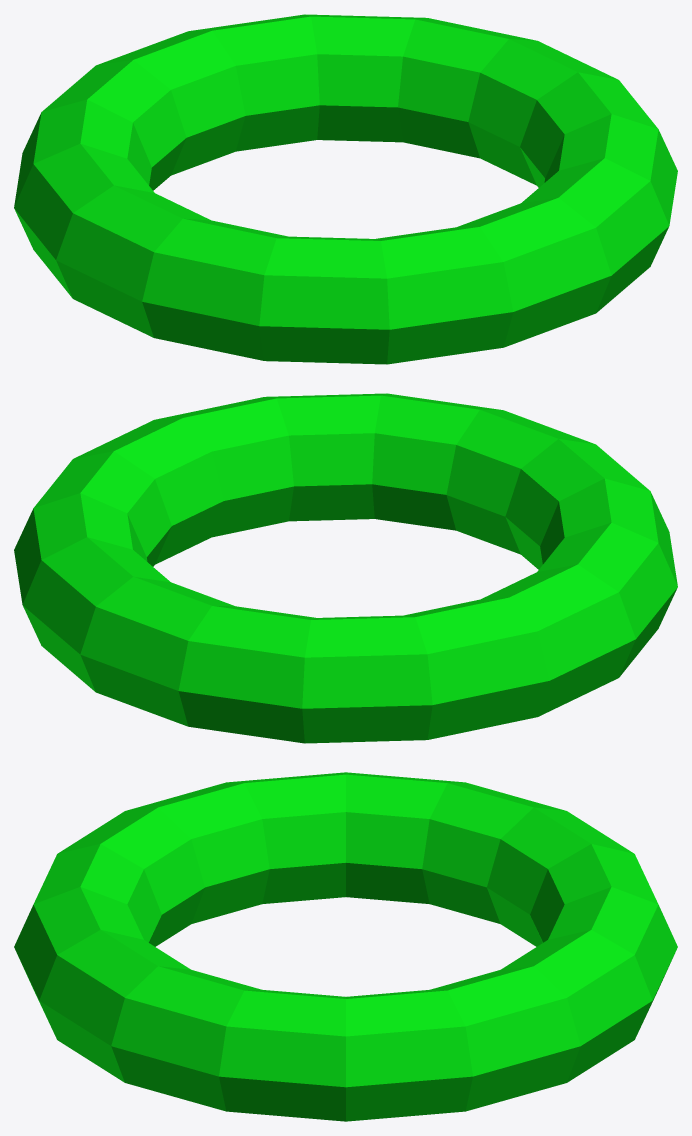
Rendered from TargetPoint.fbx.
3 views of the same model, one above another, from view 1: azimuth 30°, elevation 25°; view 2: azimuth 150°, elevation 25°; view 3: azimuth 270°, elevation 25° (orthographic).
Parts seen in each view (by area): view 1: Torus; view 2: Torus; view 3: Torus.
Part boxes in pixels (x1,y1,x2,y2): Torus: (14,14,677,364); Torus: (14,393,677,743); Torus: (14,772,677,1121).
Size of the model in its own units: 62.5 by 62.5 by 12.5.
